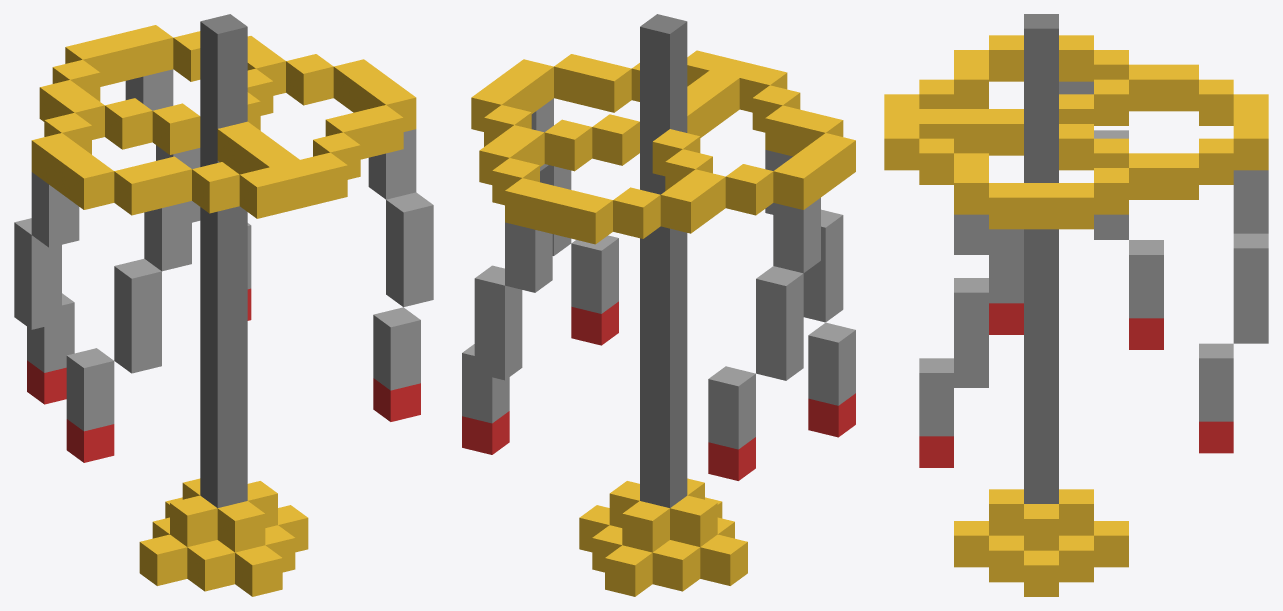
The model's file is Swing.fbx.
The picture shows the model from 3 angles, left to right: view 1: azimuth 30°, elevation 25°; view 2: azimuth 150°, elevation 25°; view 3: azimuth 270°, elevation 25°; orthographic projection.
Parts seen in each view (by area): view 1: Swing3; view 2: Swing3; view 3: Swing3.
Boxes of the visible parts, x1,y1,x2,y2 form: Swing3: [14, 14, 433, 596]; Swing3: [462, 14, 855, 596]; Swing3: [884, 14, 1268, 596].
Bounding box in the file's own units: 3.82 × 5.9 × 3.82.
